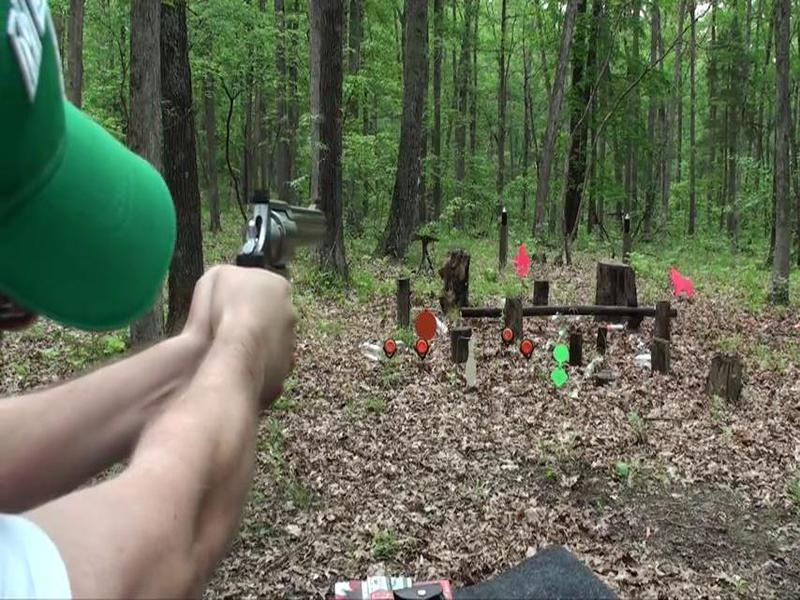Revolver: (225, 182, 334, 287)
